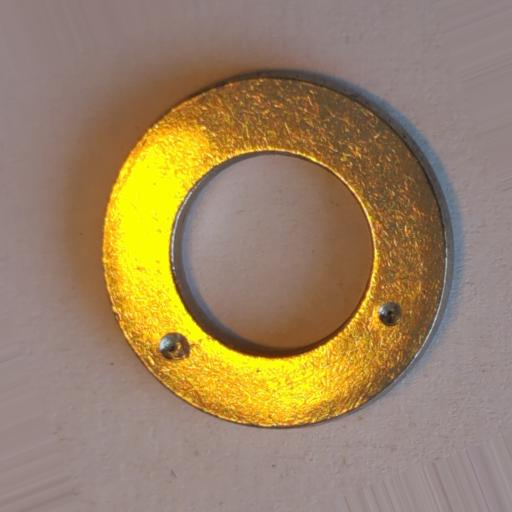circular_cavity: (158, 331, 190, 361), (378, 301, 402, 326)
